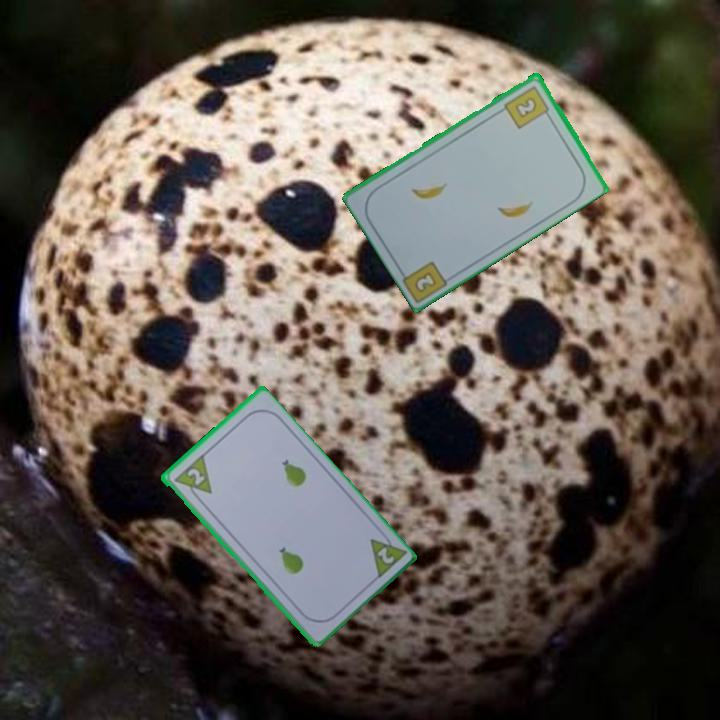2b: (501, 82, 553, 131), (411, 268, 440, 295)
2p: (169, 452, 214, 505), (373, 543, 397, 567)
